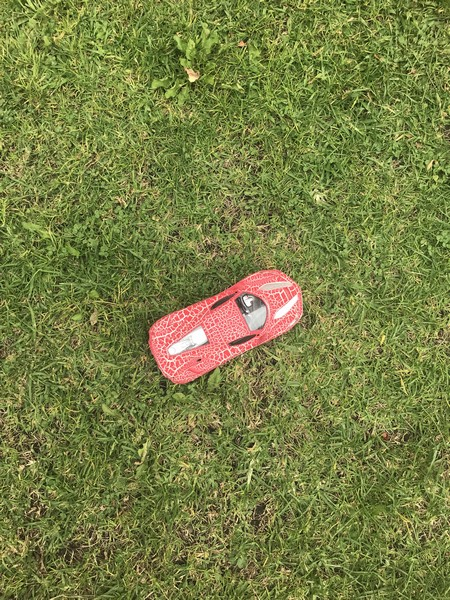RC: (146, 267, 306, 387)
